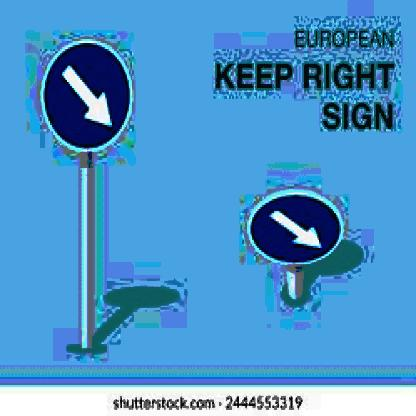Keep right: (40, 43, 134, 153), (246, 184, 346, 277)
